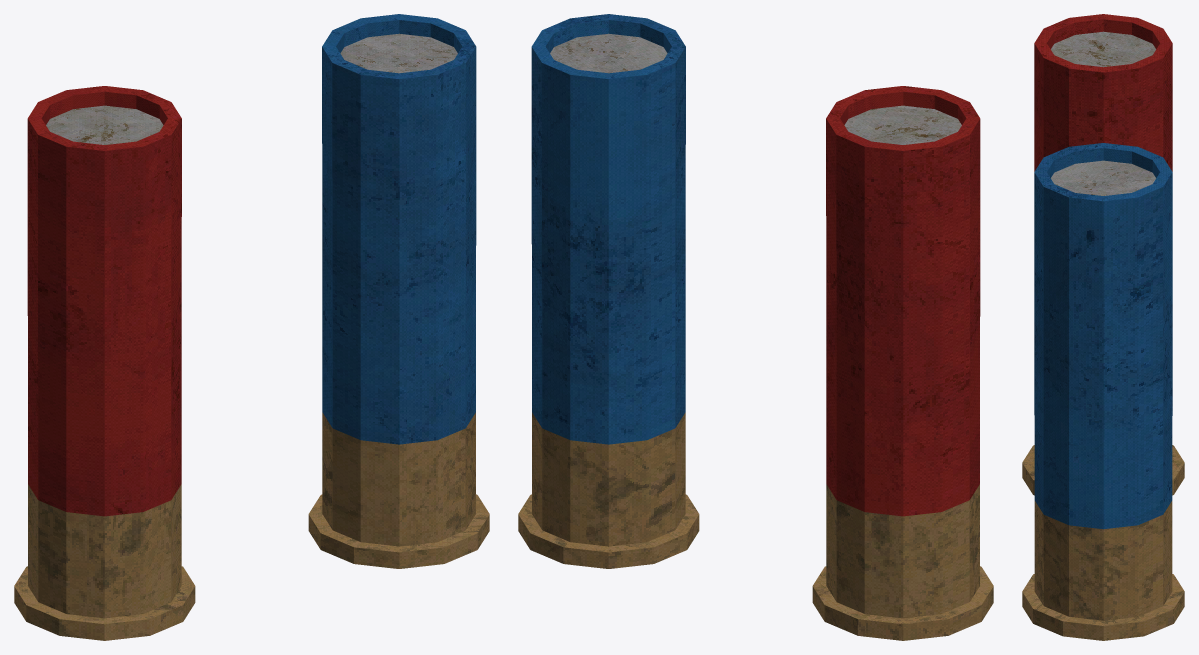
File: shotgun shells export1.glb
3 views of the same model, side by side, from view 1: azimuth 30°, elevation 25°; view 2: azimuth 150°, elevation 25°; view 3: azimuth 270°, elevation 25° (orthographic). The views are drawn at different scales.
Visible parts, largest first — view 1: shell parent_BLANK, shell parent_LIVE, live shell cap, blank shell cap; view 2: shell parent_BLANK, shell parent_LIVE, live shell cap, blank shell cap; view 3: shell parent_BLANK, shell parent_LIVE, blank shell cap, live shell cap.
Boxes of the visible parts, left/top/right/bottom form: shell parent_BLANK: left=308, top=14, right=489, bottom=568; shell parent_LIVE: left=14, top=86, right=195, bottom=640; live shell cap: left=46, top=105, right=163, bottom=144; blank shell cap: left=340, top=33, right=457, bottom=73; shell parent_BLANK: left=518, top=14, right=699, bottom=568; shell parent_LIVE: left=812, top=86, right=993, bottom=640; live shell cap: left=844, top=105, right=961, bottom=144; blank shell cap: left=550, top=33, right=667, bottom=73; shell parent_BLANK: left=1022, top=143, right=1184, bottom=640; shell parent_LIVE: left=1022, top=14, right=1184, bottom=495; blank shell cap: left=1051, top=160, right=1155, bottom=195; live shell cap: left=1051, top=31, right=1155, bottom=67.
Bounding box in the file's own units: 1.12 × 1.15 × 0.3884.
Materials: 4 (4 with a texture image).
